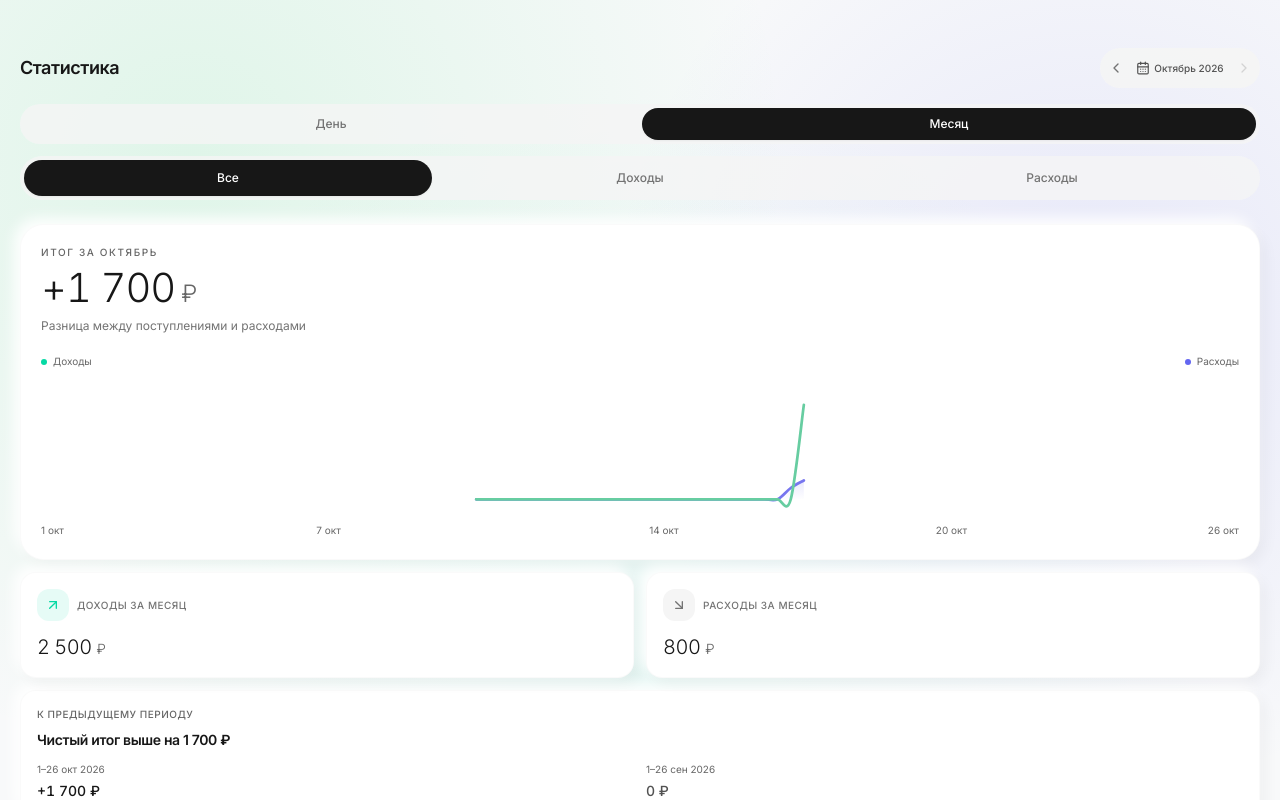
Scenario: StatisticsScreen daily and monthly views › updates the comparison when daily mode is selected
Step 1. Click the button "День" → (331, 124), box [24,108,638,140]
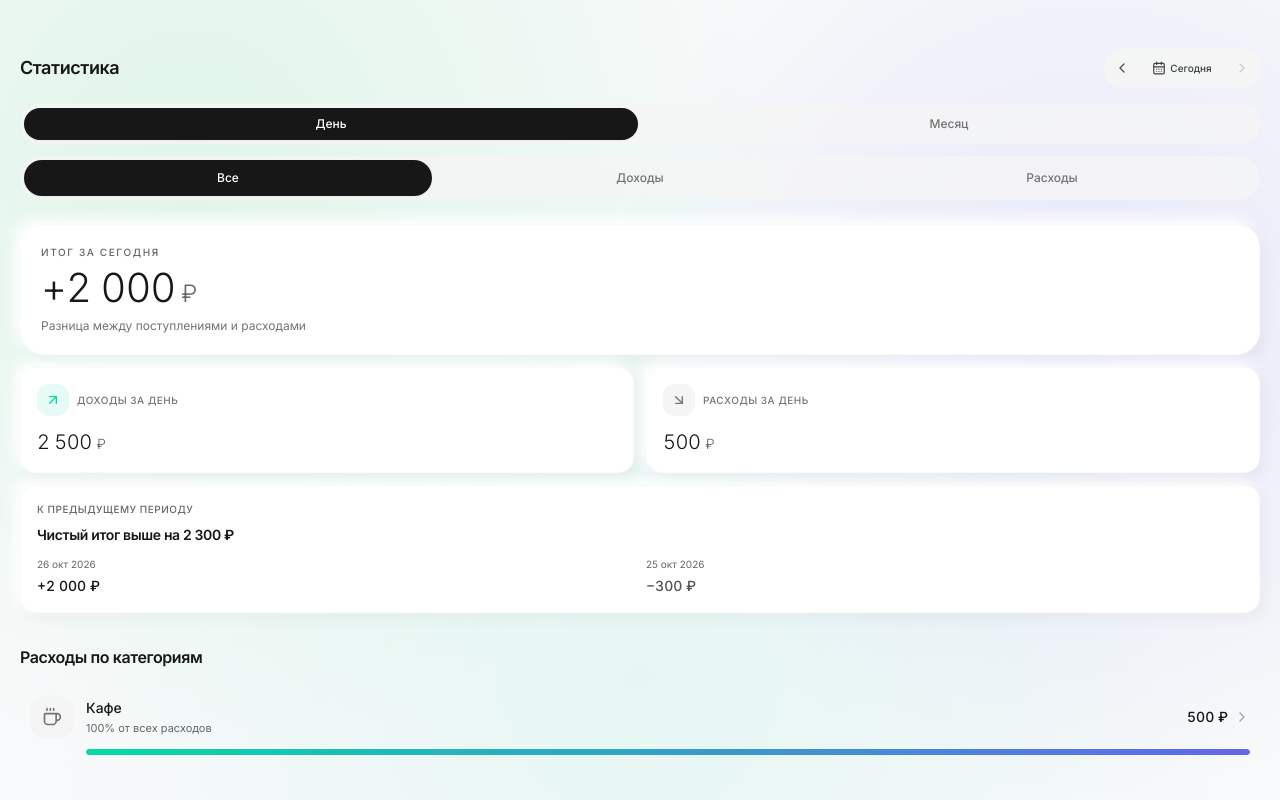
Expected: the element named "Сравнение с предыдущим периодом" shows "26 окт 2026", [37,558,96,570]
Result: the element named "Сравнение с предыдущим периодом" shows "25 окт 2026" at [646,558,704,570]
Result: the element named "Сравнение с предыдущим периодом" shows "Чистый итог выше на 2 300 ₽" at [37,526,234,543]
